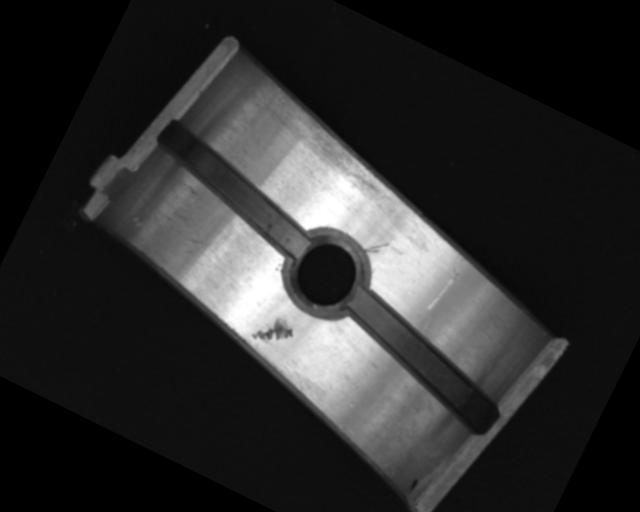blot: (405, 475, 420, 496)
bruise: (249, 306, 299, 353), (185, 232, 210, 252), (127, 213, 145, 230)
gap: (325, 284, 519, 435), (139, 118, 330, 256)
hole: (272, 217, 382, 326)
nick: (424, 249, 467, 315), (363, 234, 389, 259)
scratch: (244, 82, 420, 212)
